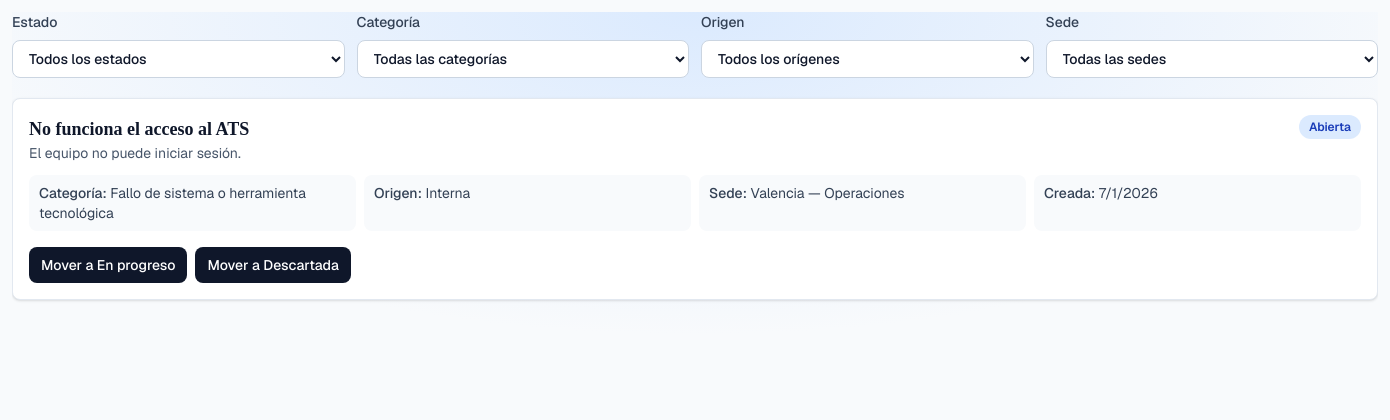
IncidentList › restaura el estado anterior y muestra error si el PATCH falla
Check: the heading "No funciona el acceso al ATS" is shown, box top-left (29, 115), bottom-right (249, 143)
What coordinates should you click on to do the following:
click the button "Mover a En progreso"
I would click on:
 (108, 265)
Its box is top-left (29, 247), bottom-right (187, 283).
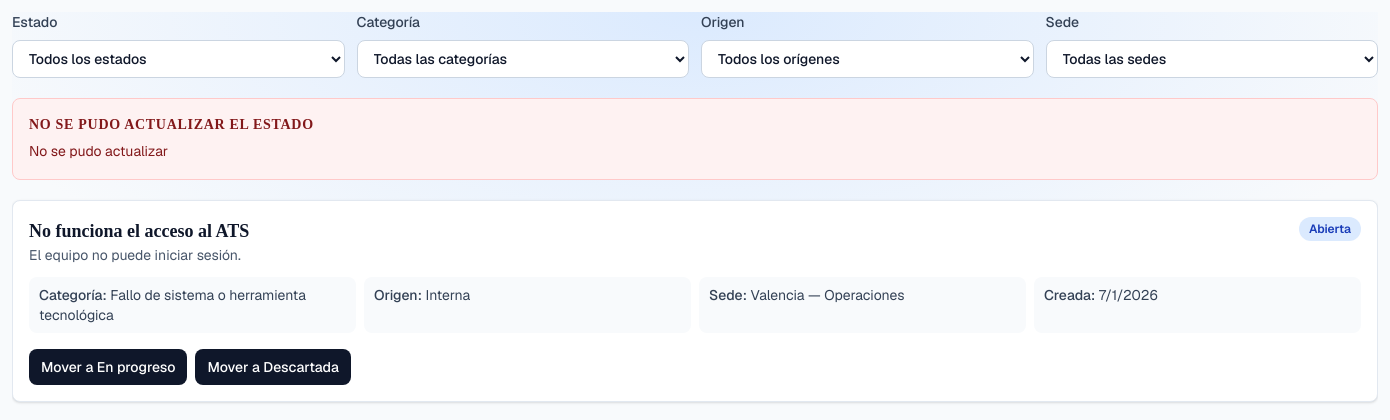
Check: the button "Mover a En progreso" is shown, box top-left (29, 349), bottom-right (187, 385)
Check: the text "No se pudo actualizar" is shown, box top-left (29, 142), bottom-right (168, 160)
